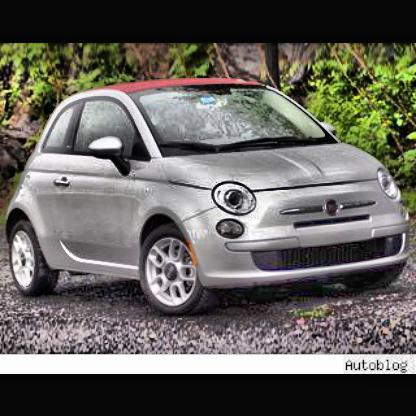FIAT 500 Convertible 2012: (8, 82, 409, 318)
